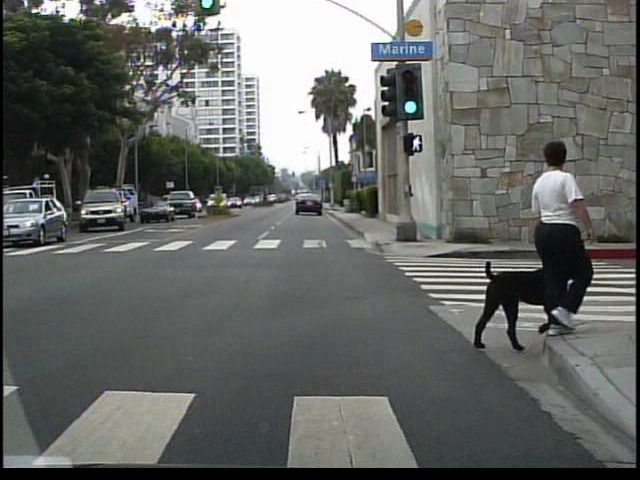person: (523, 141, 600, 340)
